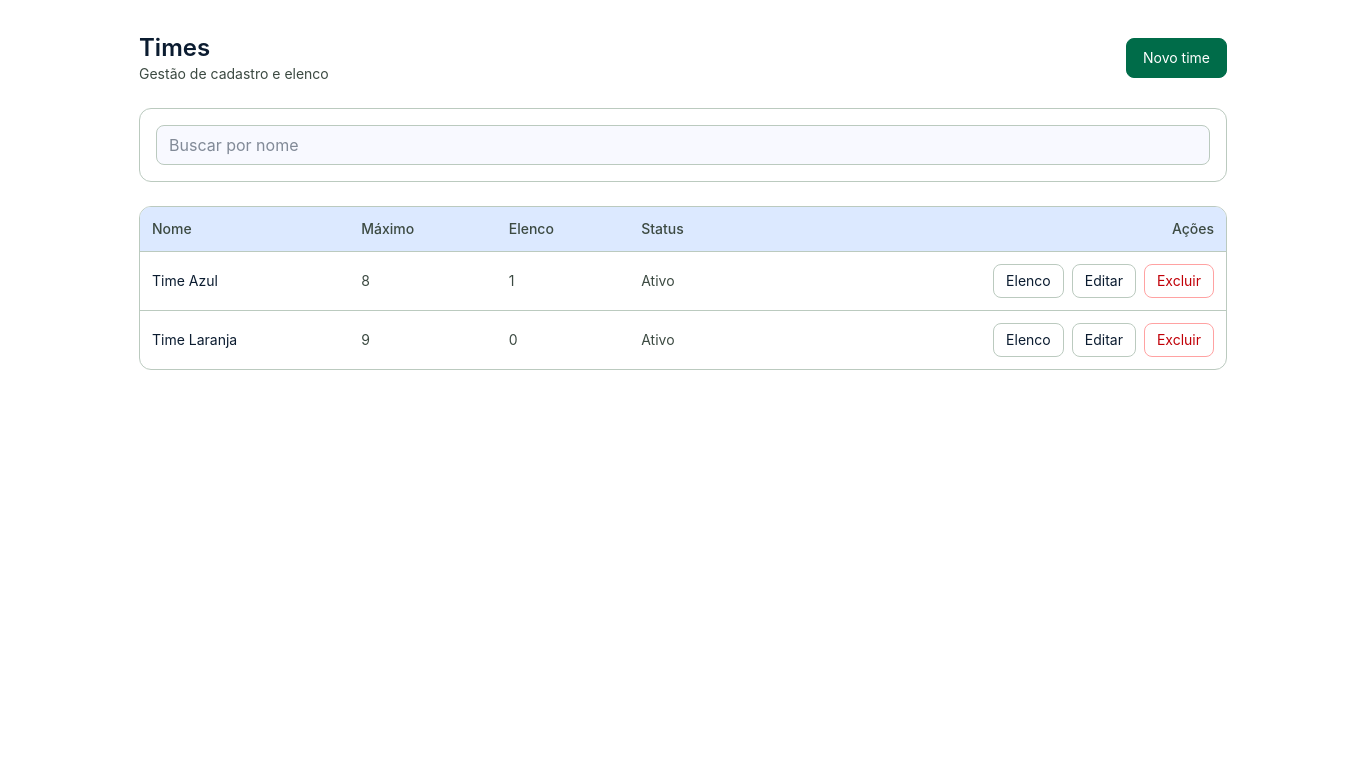
Test: TeamsPage › deve abrir modal de edição mesmo quando time selecionado não existe na lista
Click the button "Editar" in the row of "Time Azul" at (1104, 281), box [1072,264,1136,298]
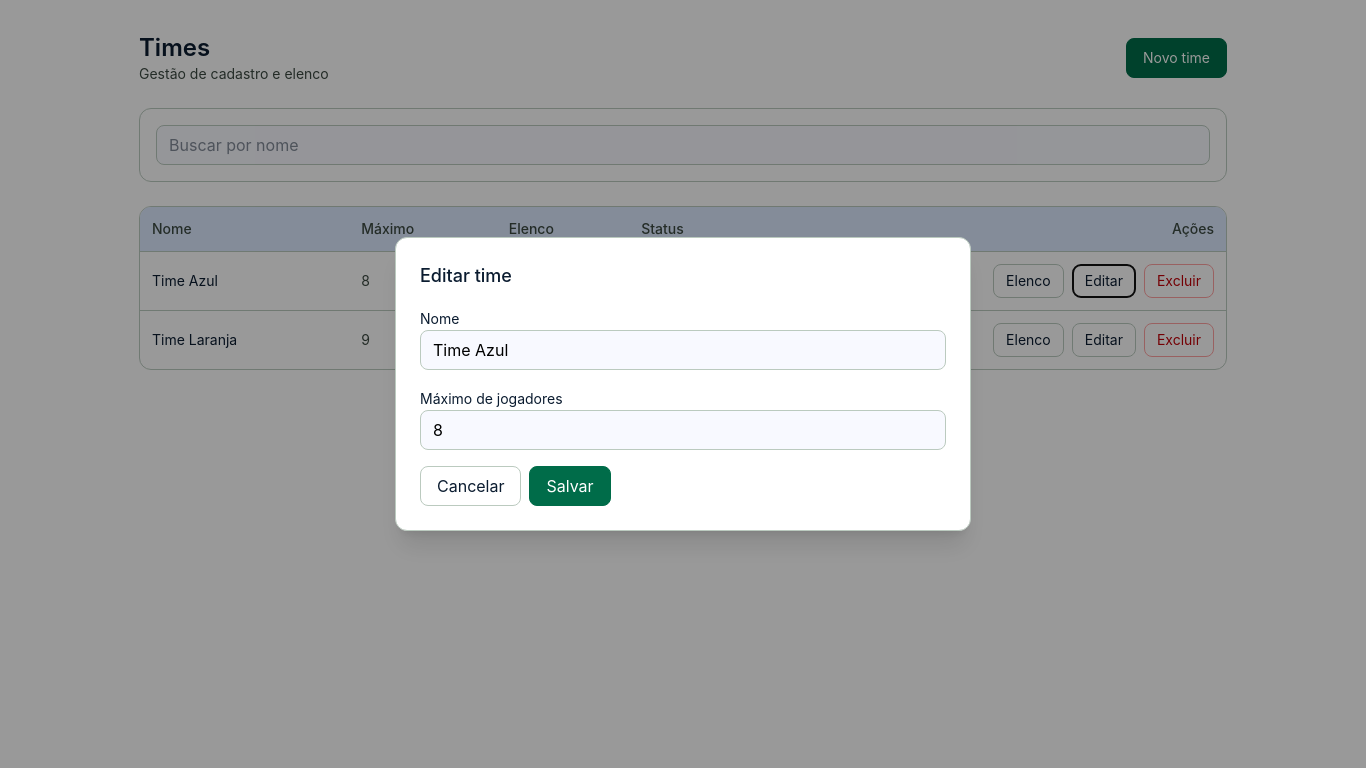
Expected: the heading "Editar time" is shown, [420,265,512,286]
